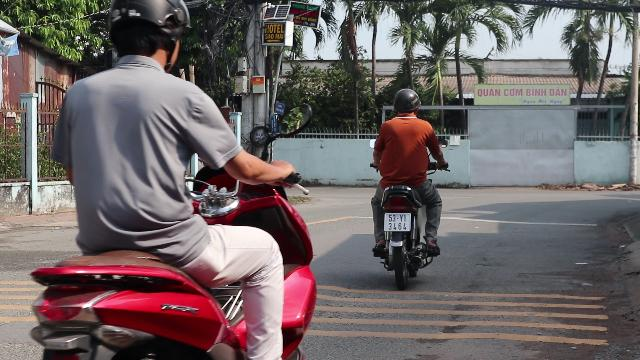helmet: (106, 0, 186, 72), (391, 88, 421, 116)
licenseplate: (384, 213, 410, 231)
motorcyclist: (23, 1, 329, 357), (364, 88, 448, 282)
